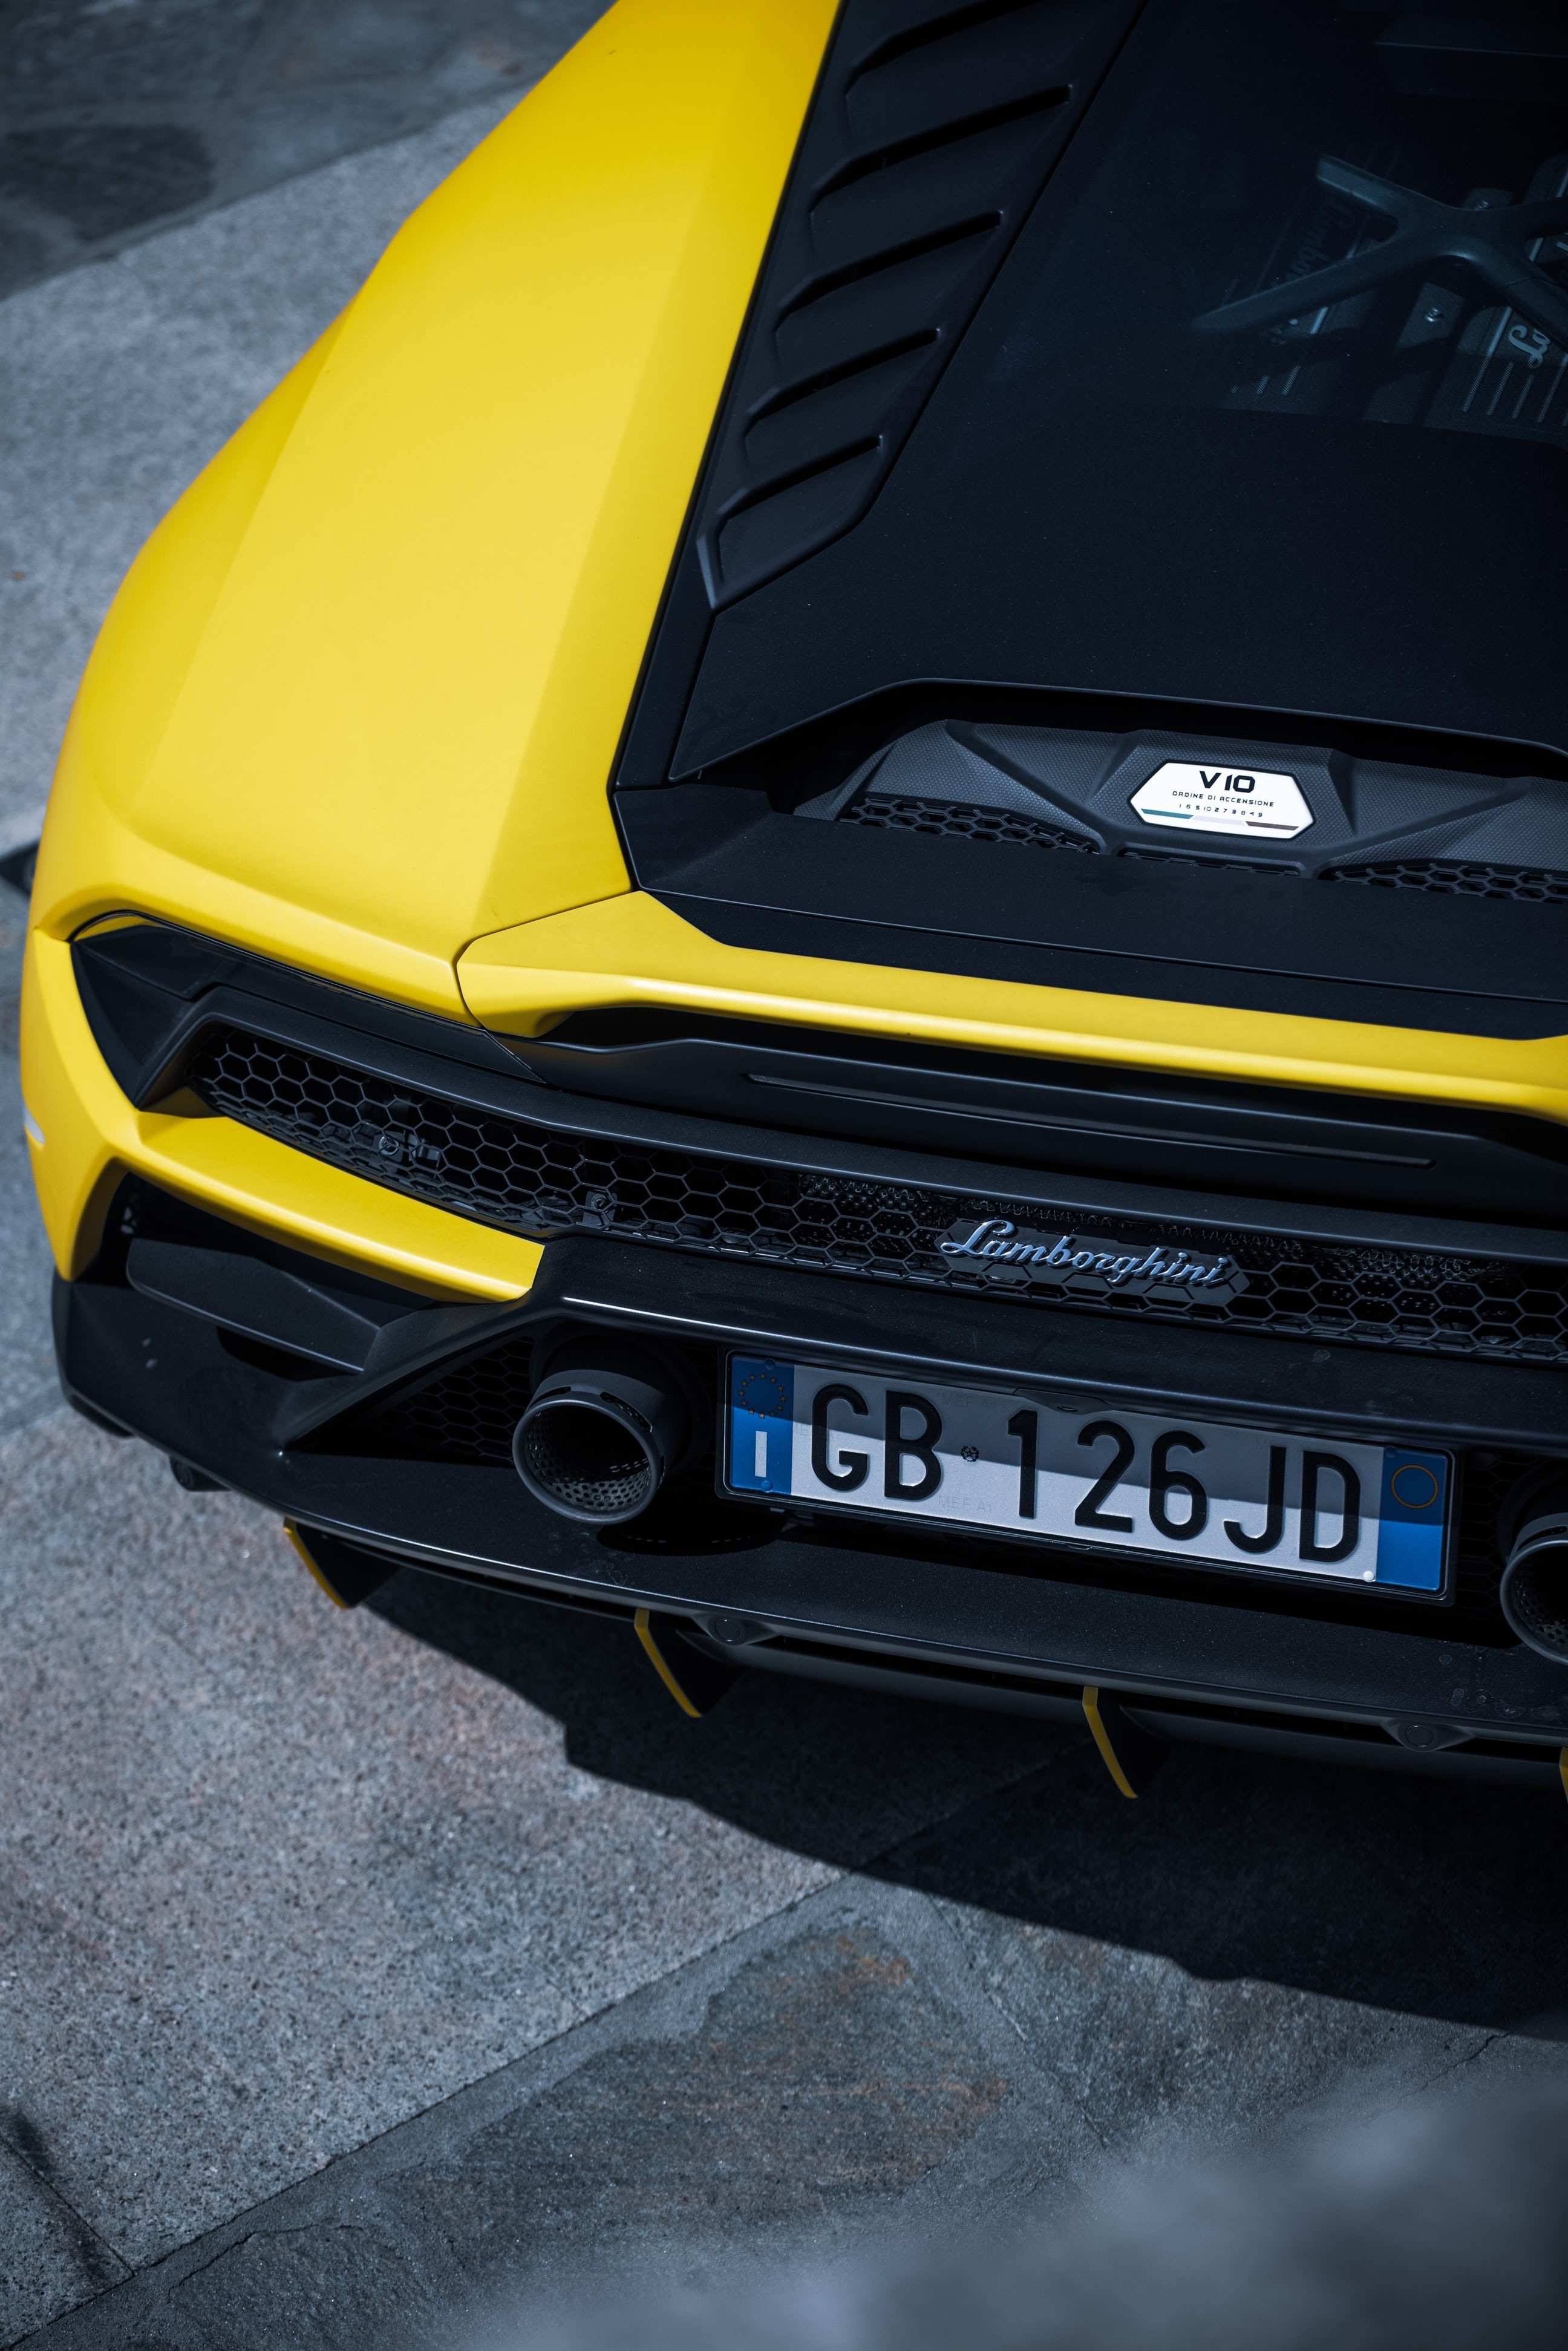plaka: (712, 1342, 1461, 1612)
